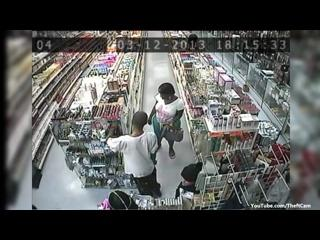Normal: (104, 110, 162, 198), (152, 82, 184, 160)
